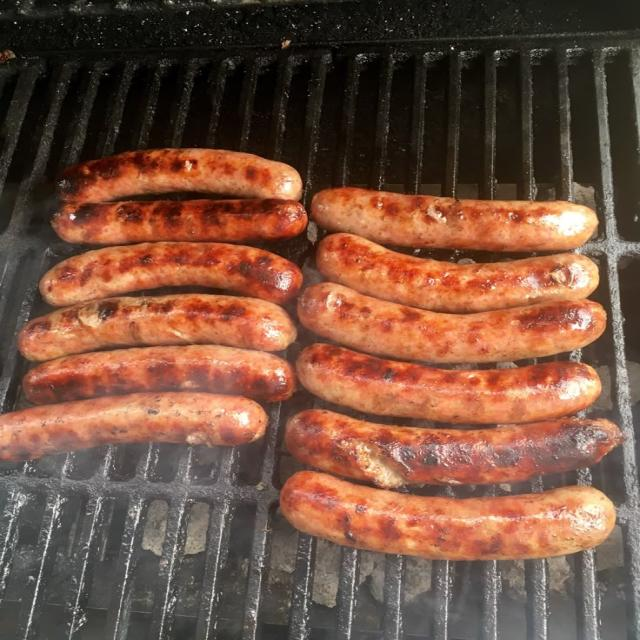sausage: (280, 472, 615, 560), (286, 410, 624, 487), (298, 283, 606, 362), (296, 344, 600, 424), (316, 233, 599, 313), (19, 294, 296, 360), (311, 188, 597, 251), (0, 393, 267, 460), (40, 243, 302, 306), (23, 345, 295, 404), (58, 149, 301, 202), (52, 199, 306, 245)
